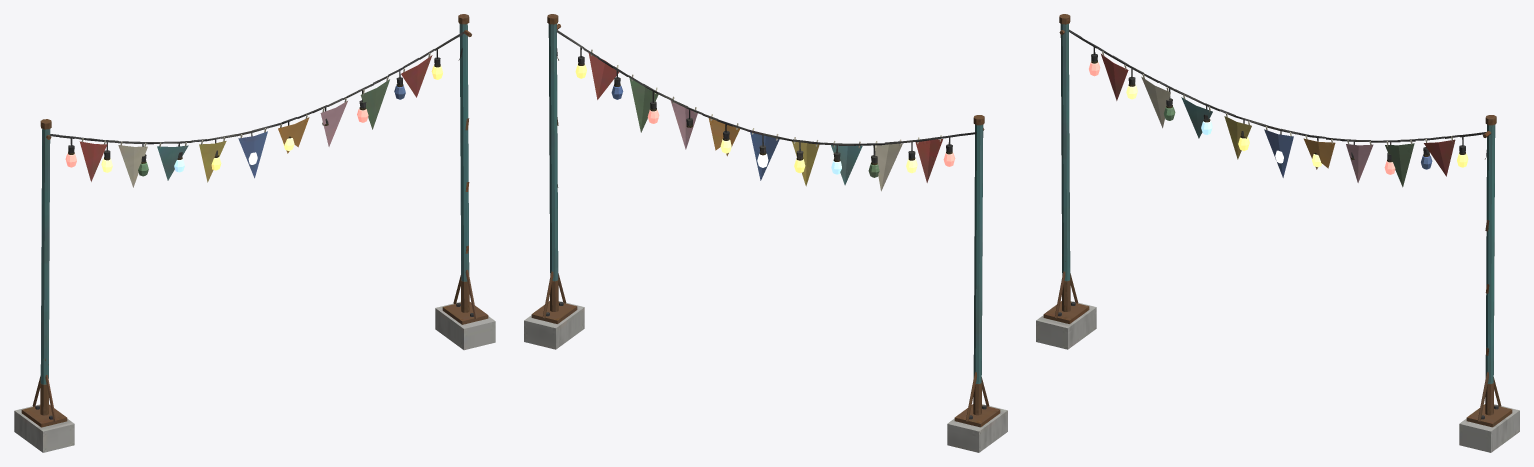
File: C15_string_light_bunting.glb
The picture shows the model from 3 angles, left to right: view 1: azimuth 30°, elevation 25°; view 2: azimuth 150°, elevation 25°; view 3: azimuth 330°, elevation 25°; orthographic projection.
Visible parts, largest first — view 1: Concrete ballast; view 2: Concrete ballast; view 3: Concrete ballast.
Boxes of the visible parts, left/top/right/bottom form: Concrete ballast: left=14, top=14, right=495, bottom=452; Concrete ballast: left=524, top=14, right=1007, bottom=452; Concrete ballast: left=1036, top=14, right=1519, bottom=452.
Bounding box in the file's own units: 4 × 2.69 × 0.44.
Materials: 21 (16 with a texture image).
